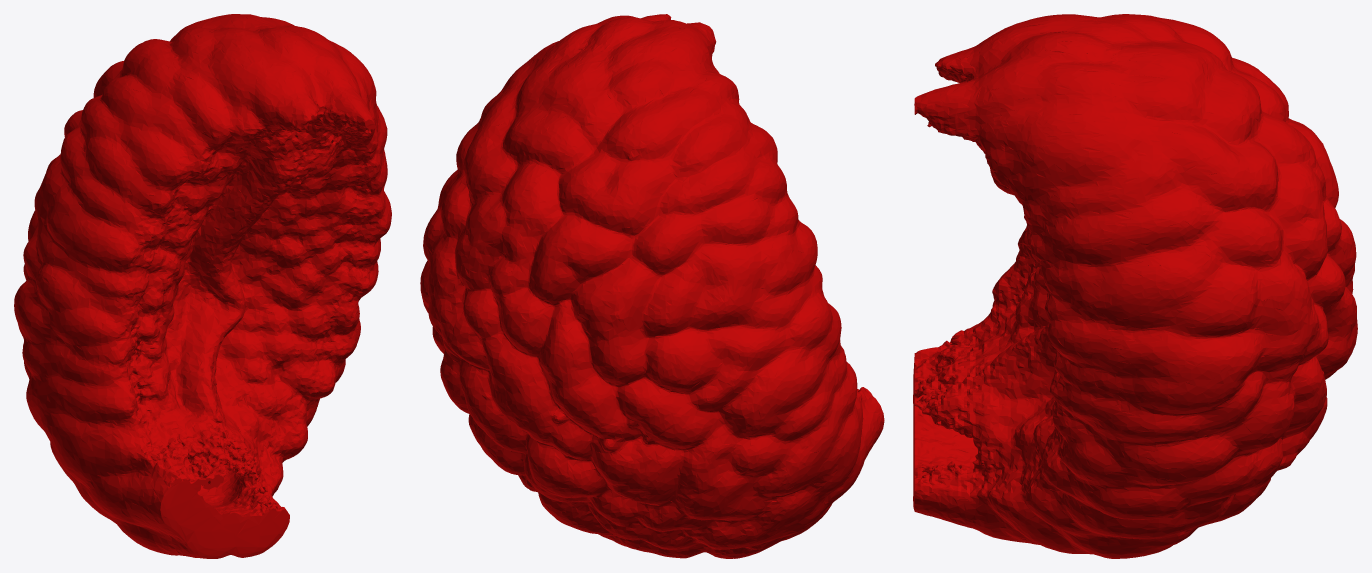
The model's file is 3DPX-017846-0.glb.
3 renders of one model, left to right at view 1: azimuth 30°, elevation 25°; view 2: azimuth 150°, elevation 25°; view 3: azimuth 270°, elevation 25°, orthographic. The views are drawn at different scales.
Bounding box in the file's own units: 70.47 × 90.73 × 66.13.
